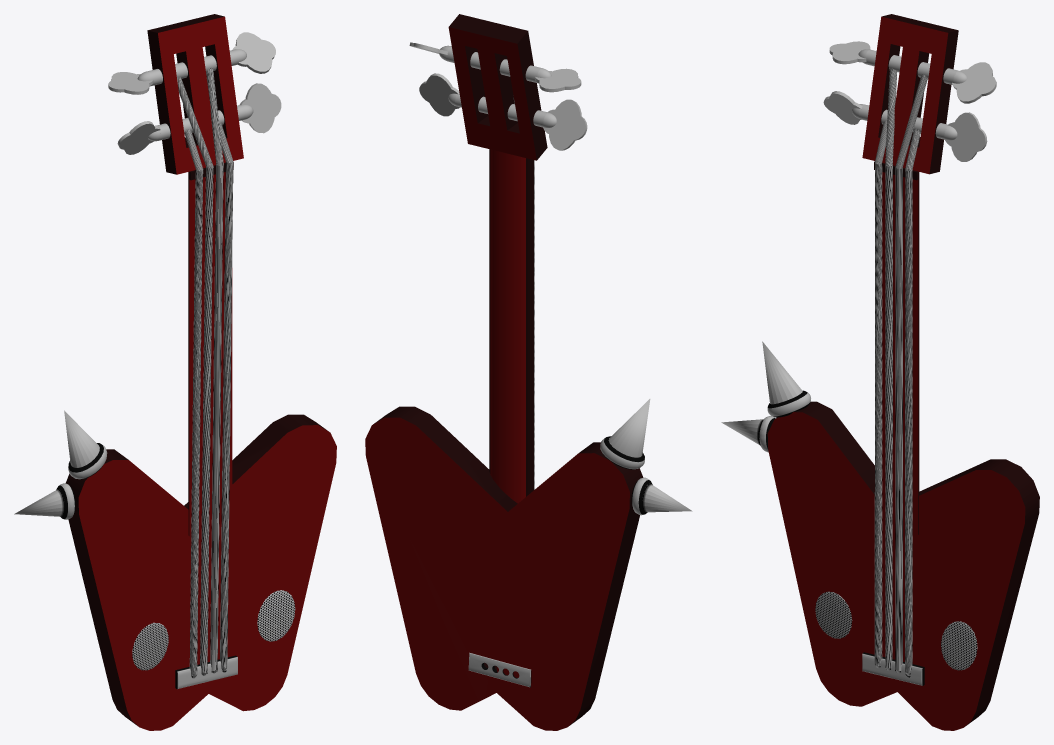
The model's file is bajoMarceline.obj.
3 views of the same model, side by side, from view 1: azimuth 30°, elevation 25°; view 2: azimuth 150°, elevation 25°; view 3: azimuth 330°, elevation 25° (orthographic). The views are drawn at different scales.
Visible parts, largest first — view 1: pasted__pasted__pCylinder7; view 2: pasted__pasted__pCylinder7; view 3: pasted__pasted__pCylinder7.
Boxes of the visible parts, box(x1,y1,x2,y2) form: pasted__pasted__pCylinder7: box(14, 14, 336, 730); pasted__pasted__pCylinder7: box(365, 14, 692, 730); pasted__pasted__pCylinder7: box(721, 14, 1039, 730).
Size of the model in its own units: 1.12 by 2.34 by 0.2211.
4 materials, 4 textured.
